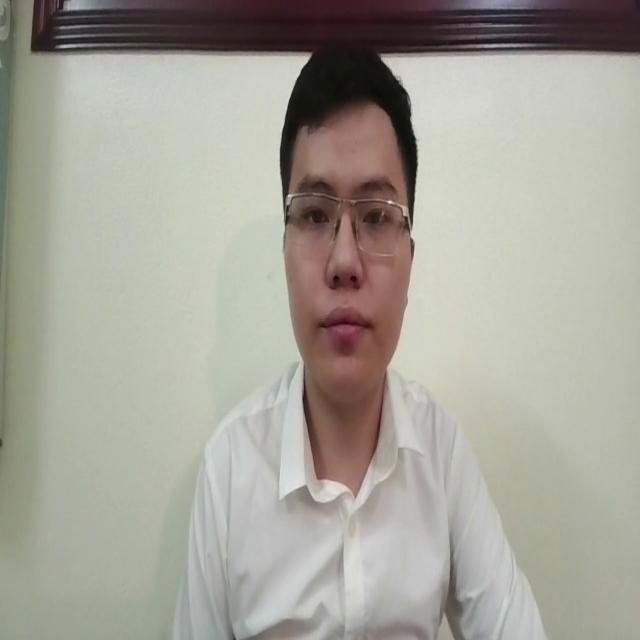student: (173, 35, 547, 639)
